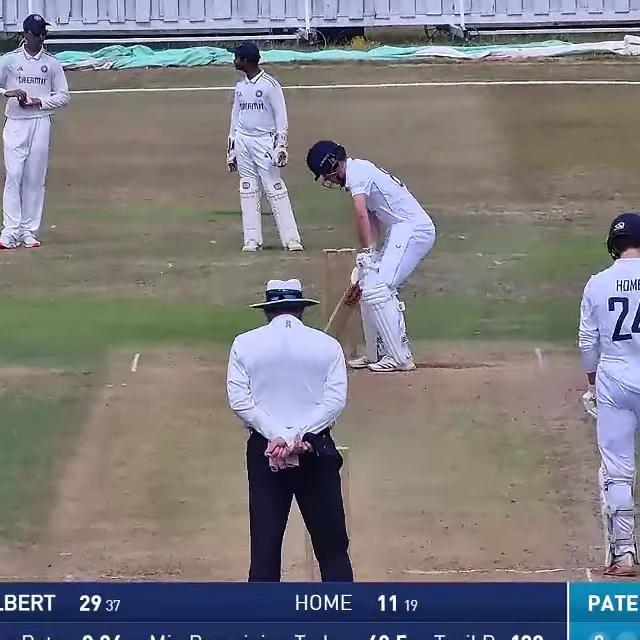umpire: (213, 268, 365, 584)
